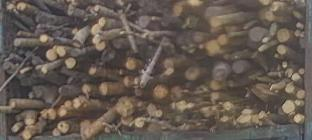medium: (118, 97, 134, 115), (277, 28, 290, 43), (154, 85, 167, 98), (185, 68, 199, 80), (207, 41, 219, 54), (283, 101, 295, 113), (232, 61, 243, 74), (250, 28, 261, 41), (215, 67, 226, 79), (173, 2, 182, 16), (58, 122, 69, 133), (91, 24, 101, 34), (46, 50, 56, 60), (211, 80, 221, 90), (127, 59, 136, 70), (140, 16, 149, 27), (237, 115, 251, 122), (148, 104, 156, 116), (66, 58, 75, 68), (211, 17, 220, 27), (135, 117, 144, 127), (177, 101, 186, 111), (164, 59, 173, 69), (100, 83, 107, 95), (96, 42, 105, 51), (57, 47, 65, 57), (294, 114, 304, 122), (122, 116, 132, 124), (278, 45, 286, 54), (286, 84, 294, 93), (2, 62, 11, 70), (265, 12, 273, 21), (270, 3, 278, 12), (298, 90, 305, 100), (17, 3, 25, 11), (23, 131, 31, 139), (292, 73, 300, 81), (223, 102, 231, 110), (218, 35, 225, 44), (59, 107, 66, 116), (83, 84, 90, 93), (73, 98, 80, 107), (211, 92, 218, 101), (25, 119, 35, 125), (10, 99, 16, 109), (241, 109, 251, 115), (98, 18, 105, 26), (40, 35, 48, 42), (14, 39, 21, 46), (286, 69, 292, 77)
small: (156, 110, 162, 118), (166, 69, 174, 75), (65, 101, 71, 107), (90, 68, 96, 74), (296, 22, 302, 28), (12, 126, 18, 132), (295, 30, 300, 37), (41, 67, 46, 74), (259, 111, 264, 118), (221, 117, 228, 122), (188, 103, 194, 108), (295, 100, 300, 106), (94, 5, 99, 11), (16, 30, 21, 36), (228, 80, 232, 87), (283, 62, 287, 68), (300, 69, 304, 74), (263, 37, 267, 42), (259, 47, 263, 52), (243, 25, 248, 29), (29, 93, 32, 99), (135, 78, 138, 84), (73, 29, 77, 33), (200, 45, 203, 48), (20, 71, 23, 74), (275, 54, 278, 57)
